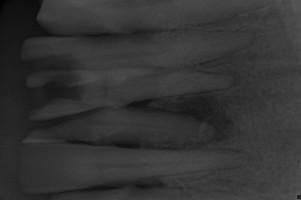Furcation Involvement: (158, 91, 241, 143)
